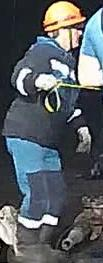gloves: (73, 122, 93, 157)
helmet: (42, 0, 86, 32)
vest: (0, 34, 82, 156)
